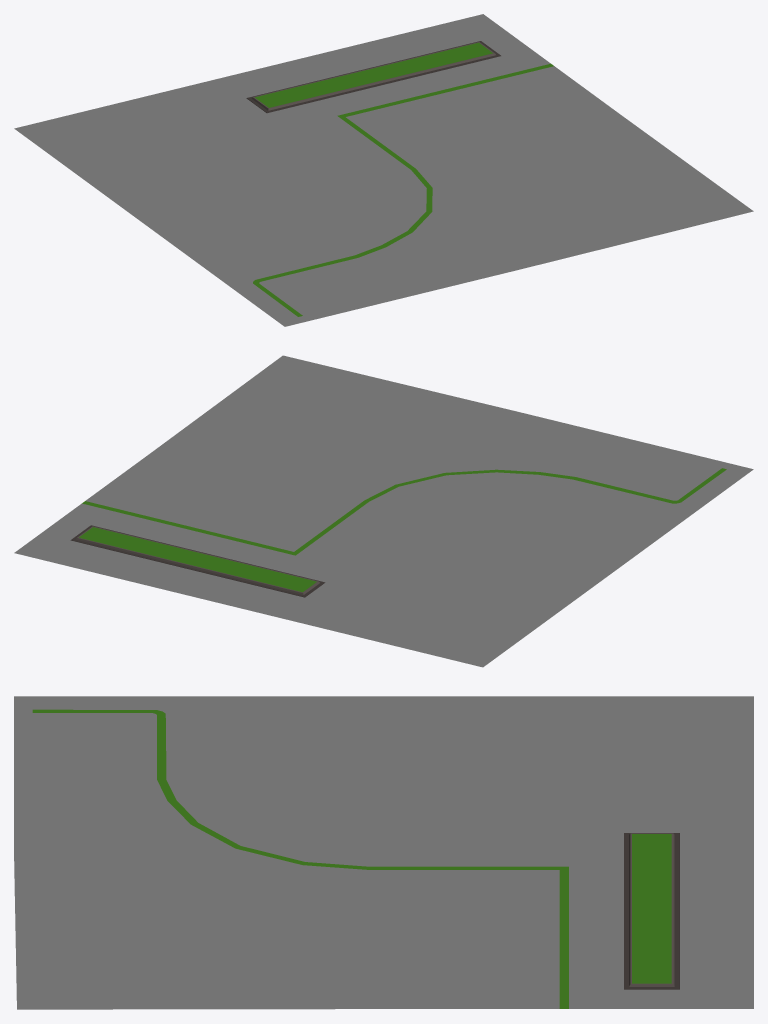
Rendered from W_M_32x32_R0_Park_Floor_a_L3.fbx.
3 renders of one model, top to bottom at view 1: azimuth 30°, elevation 25°; view 2: azimuth 150°, elevation 25°; view 3: azimuth 270°, elevation 25°, orthographic. The views are drawn at different scales.
Parts seen in each view (by area): view 1: W_M_32x32_R0_Park_Floor_a_L3; view 2: W_M_32x32_R0_Park_Floor_a_L3; view 3: W_M_32x32_R0_Park_Floor_a_L3.
Part boxes in pixels (x1,y1,x2,y2): W_M_32x32_R0_Park_Floor_a_L3: (14, 14, 753, 326); W_M_32x32_R0_Park_Floor_a_L3: (14, 355, 753, 667); W_M_32x32_R0_Park_Floor_a_L3: (14, 696, 753, 1009).
Size of the model in its own units: 32.06 by 0.1212 by 32.
